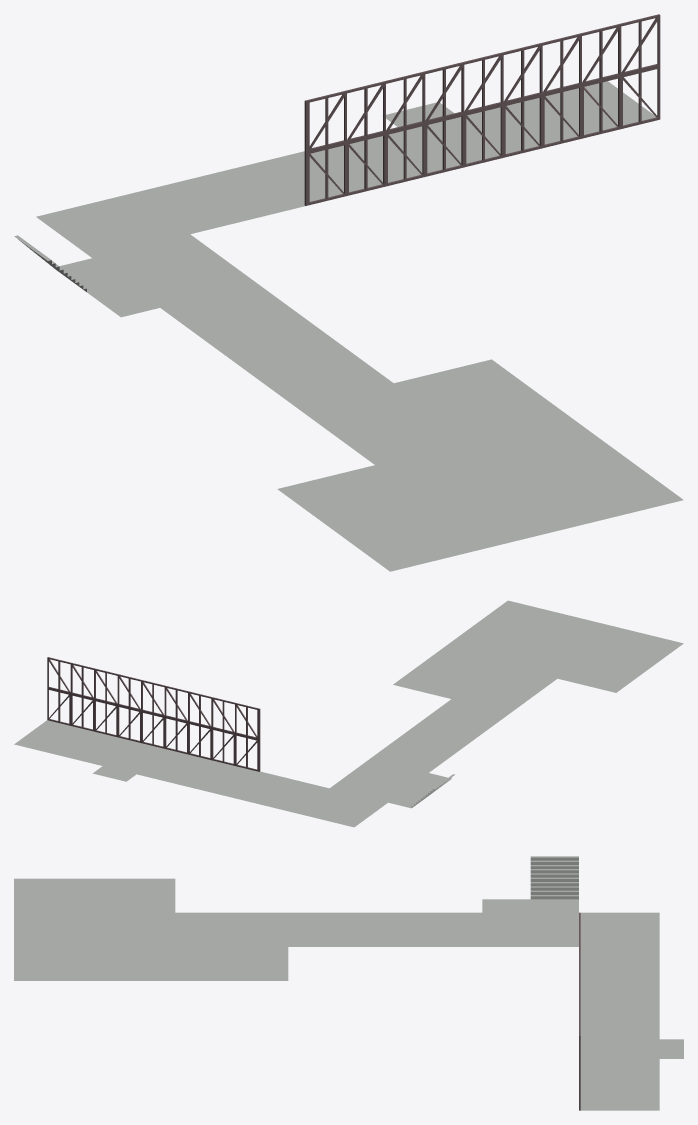
Rendered from steptest.fbx.
3 views of the same model, one above another, from view 1: azimuth 30°, elevation 25°; view 2: azimuth 150°, elevation 25°; view 3: azimuth 270°, elevation 25° (orthographic). The views are drawn at different scales.
Parts seen in each view (by area): view 1: floor, obj1; view 2: floor, obj1; view 3: floor, obj1.
Boxes of the visible parts, <box> form: floor: <box>14,81,683,571</box>; obj1: <box>304,14,660,205</box>; floor: <box>14,600,683,827</box>; obj1: <box>47,657,260,771</box>; floor: <box>14,856,683,1110</box>; obj1: <box>579,912,580,1110</box>.
Bounding box in the file's own units: 1700 × 255 × 2075.
